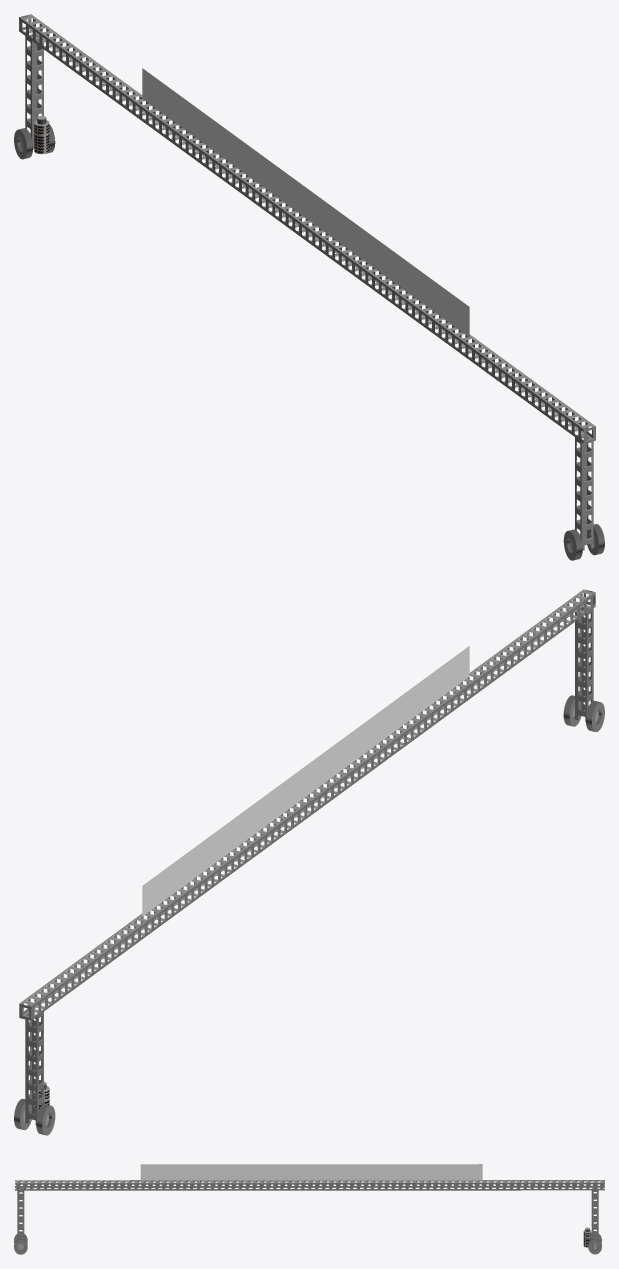
File: gate_frame.fbx
The picture shows the model from 3 angles, top to bottom: view 1: azimuth 30°, elevation 25°; view 2: azimuth 150°, elevation 25°; view 3: azimuth 270°, elevation 25°; orthographic projection. The views are drawn at different scales.
Parts seen in each view (by area): view 1: group1; view 2: group1; view 3: group1.
Boxes of the visible parts, x1,y1,x2,y2 form: group1: [14, 14, 604, 560]; group1: [14, 589, 604, 1135]; group1: [14, 1164, 604, 1254].
Size of the model in its own units: 22.99 by 120 by 740.
